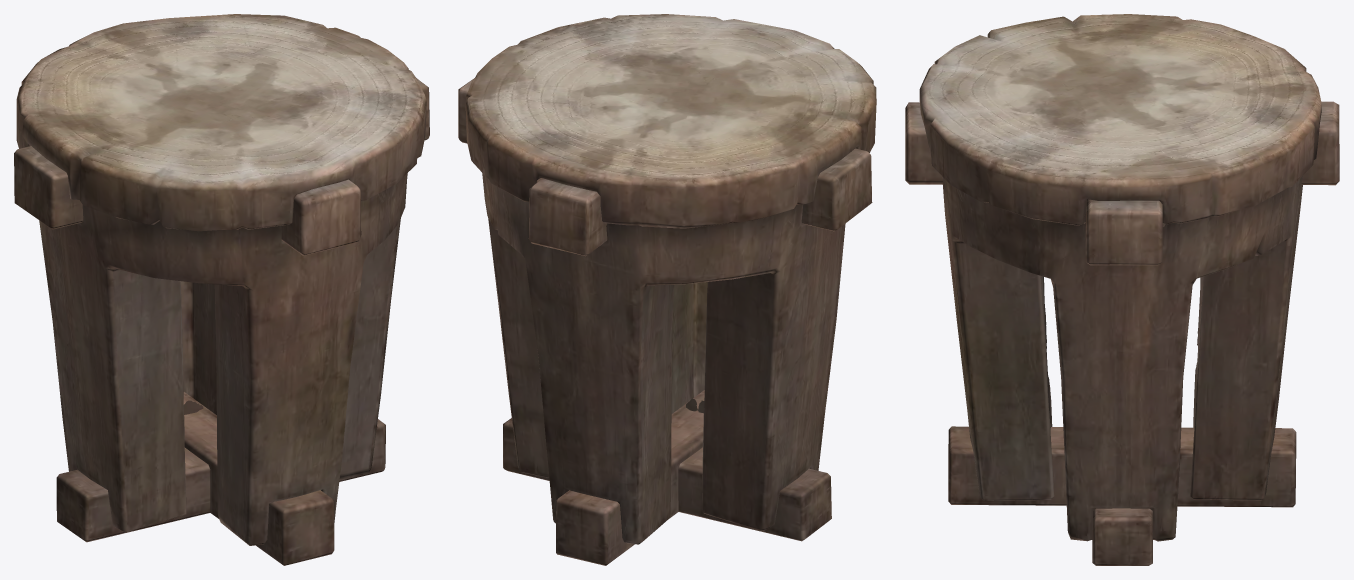
3 renders of one model, left to right at view 1: azimuth 30°, elevation 25°; view 2: azimuth 150°, elevation 25°; view 3: azimuth 270°, elevation 25°, orthographic.
Visible parts, largest first — view 1: SM_Garou_Stool_01_LOD0; view 2: SM_Garou_Stool_01_LOD0; view 3: SM_Garou_Stool_01_LOD0.
Part boxes in pixels (left/top/right/bottom): SM_Garou_Stool_01_LOD0: left=14, top=14, right=429, bottom=565; SM_Garou_Stool_01_LOD0: left=458, top=14, right=876, bottom=565; SM_Garou_Stool_01_LOD0: left=905, top=14, right=1339, bottom=565.
Bounding box in the file's own units: 0.7146 × 0.7246 × 0.7122.
1 material, 1 textured.
